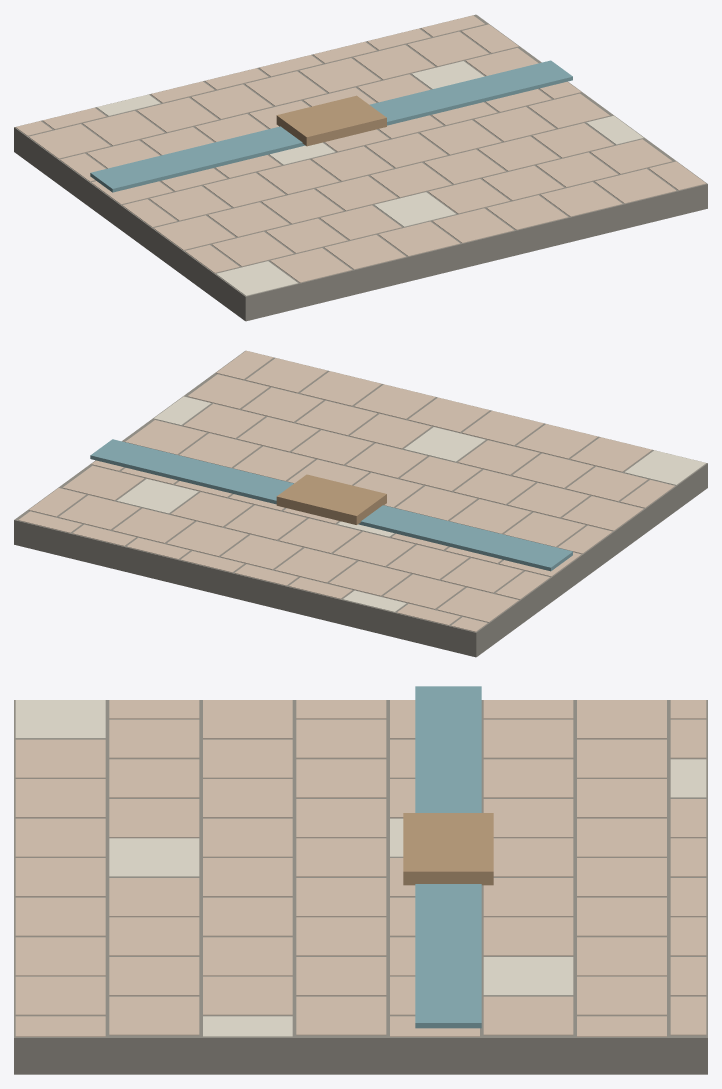
Rendered from MiniatureCanalStreet.glb.
The picture shows the model from 3 angles, top to bottom: view 1: azimuth 30°, elevation 25°; view 2: azimuth 150°, elevation 25°; view 3: azimuth 270°, elevation 25°; orthographic projection. The views are drawn at different scales.
Parts seen in each view (by area): view 1: MiniatureCanalStreet; view 2: MiniatureCanalStreet; view 3: MiniatureCanalStreet.
Part boxes in pixels (left/top/right/bottom): MiniatureCanalStreet: left=14, top=14, right=707, bottom=321; MiniatureCanalStreet: left=14, top=350, right=707, bottom=657; MiniatureCanalStreet: left=14, top=686, right=707, bottom=1074.
Bounding box in the file's own units: 5.3 × 0.465 × 4.6.
